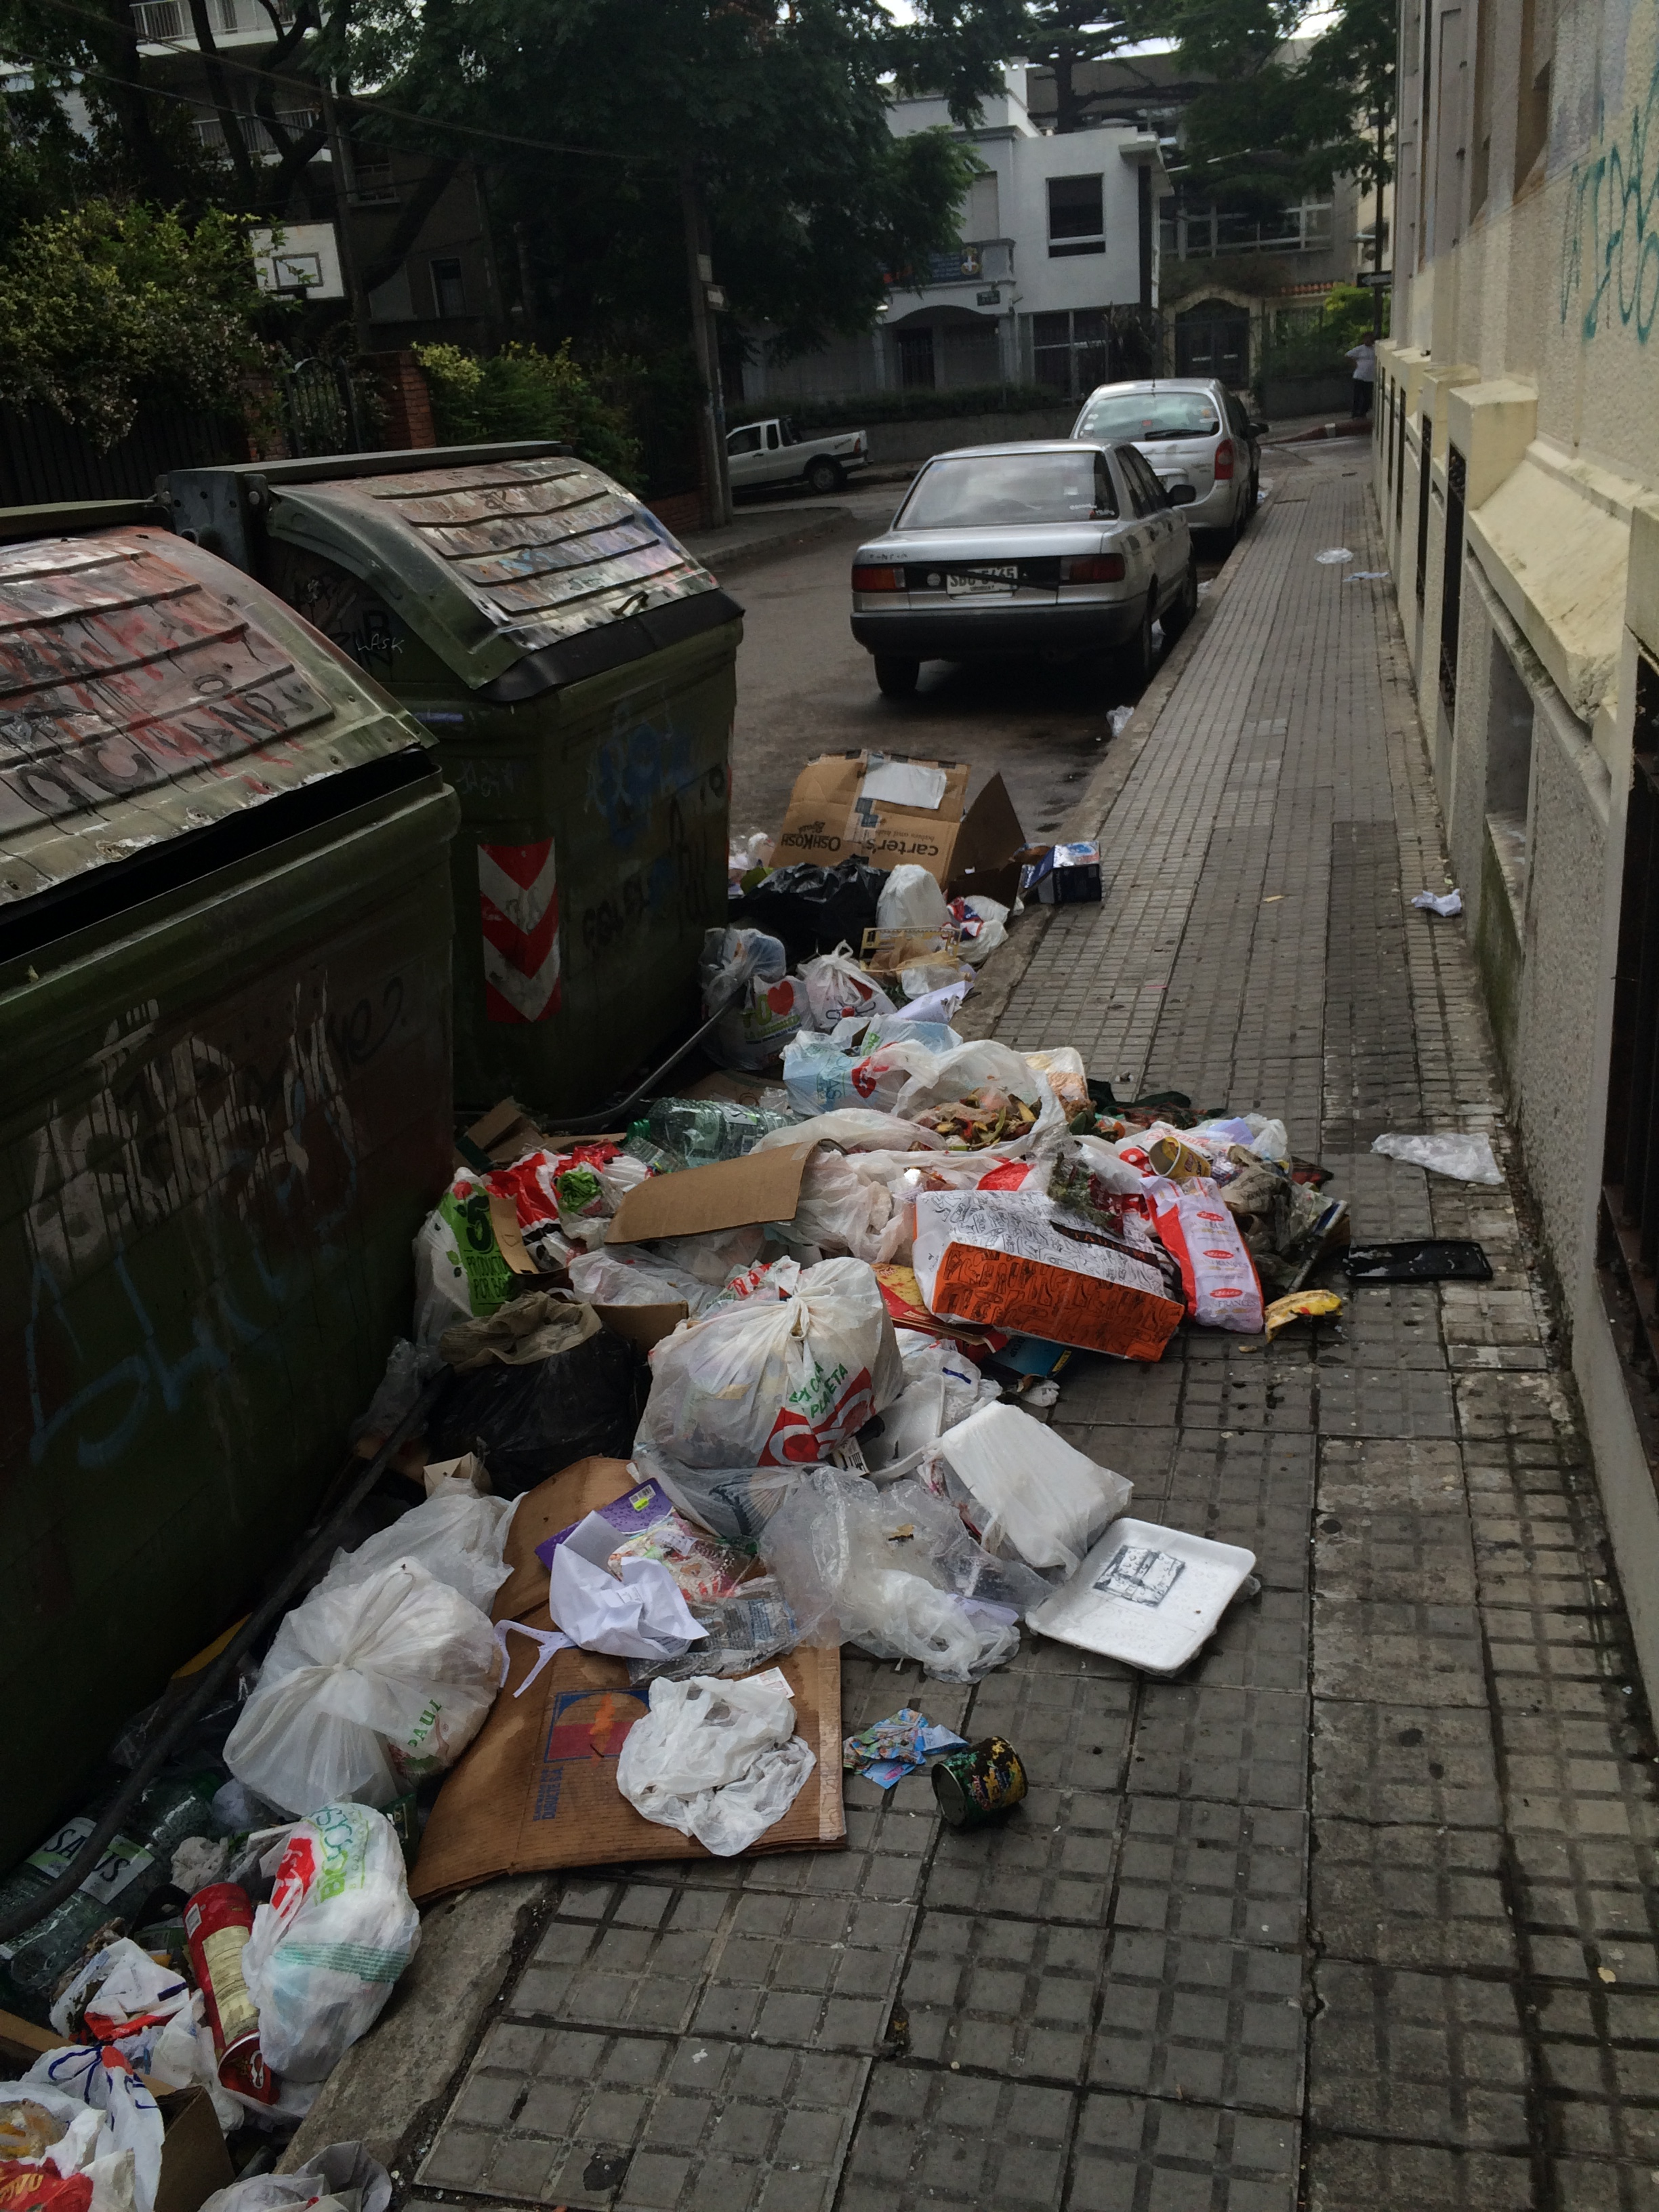container: (0, 481, 474, 1890), (138, 423, 744, 1141)
